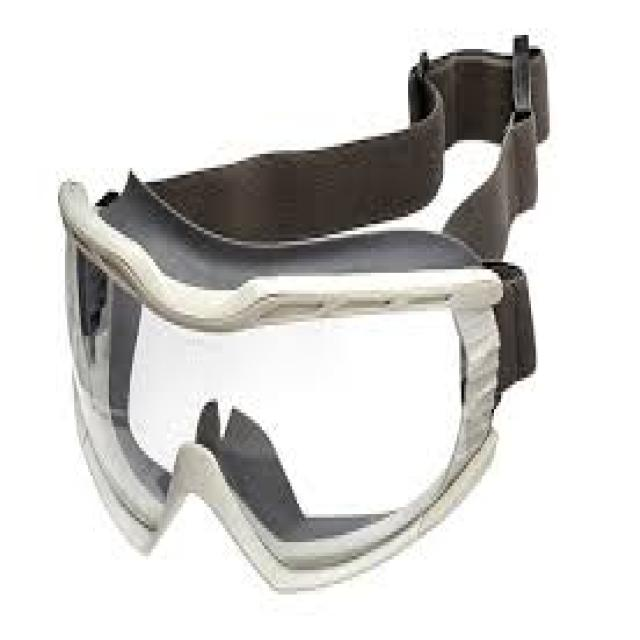goggles_on: (52, 29, 558, 599)
